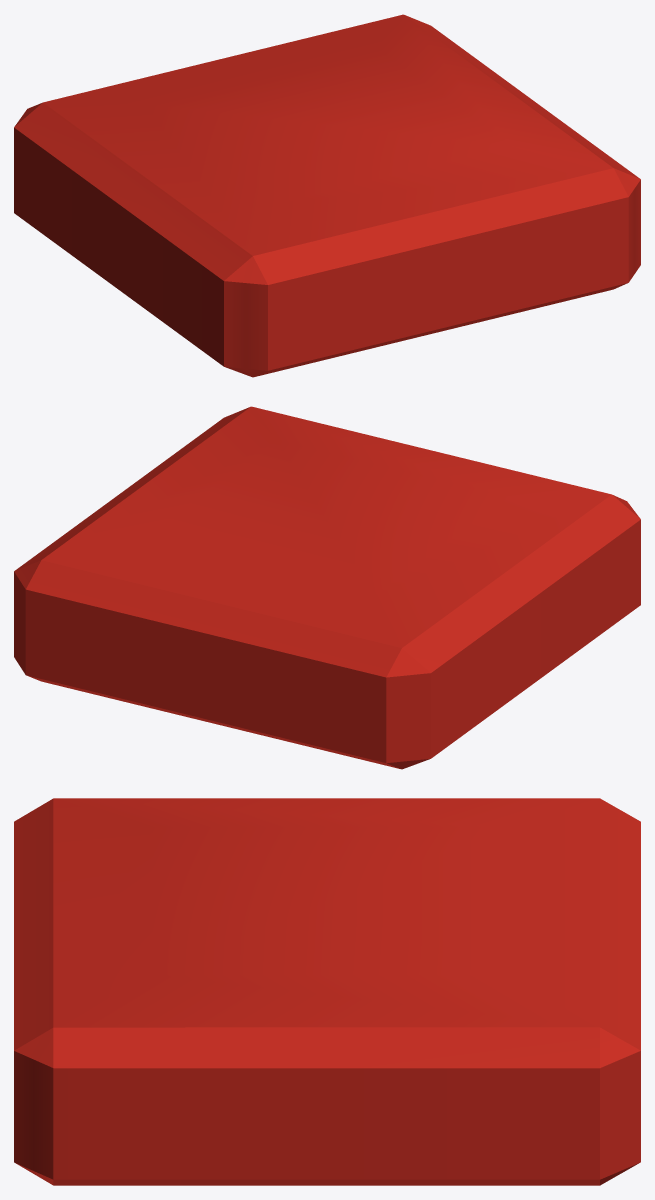
Rendered from hand.obj.
3 views of the same model, one above another, from view 1: azimuth 30°, elevation 25°; view 2: azimuth 150°, elevation 25°; view 3: azimuth 270°, elevation 25° (orthographic). The views are drawn at different scales.
Visible parts, largest first — view 1: Onett12; view 2: Onett12; view 3: Onett12.
Boxes of the visible parts, x1=… form: Onett12: x1=14, y1=14, x2=640, y2=377; Onett12: x1=14, y1=406, x2=640, y2=769; Onett12: x1=14, y1=798, x2=640, y2=1185.
Size of the model in its own units: 1 by 0.3 by 1.
1 material, 1 textured.
